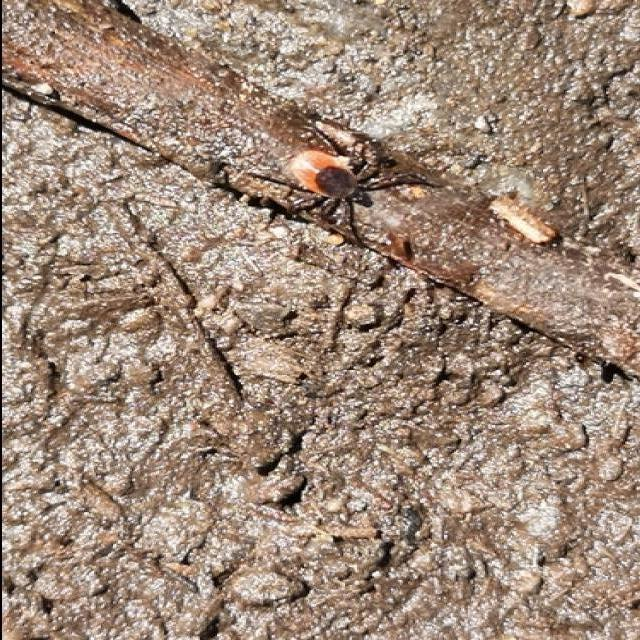Ixodes Ricinus-F: (241, 119, 445, 230)
